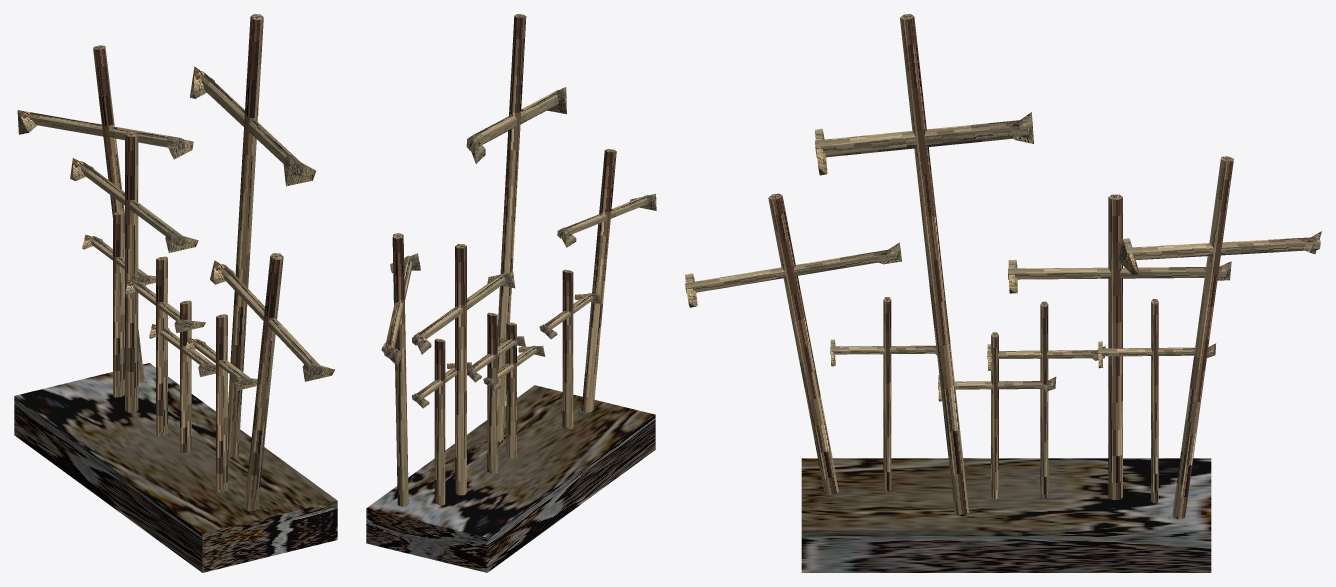
File: hillcross.glb
The picture shows the model from 3 angles, left to right: view 1: azimuth 30°, elevation 25°; view 2: azimuth 150°, elevation 25°; view 3: azimuth 270°, elevation 25°; orthographic projection. The views are drawn at different scales.
Parts seen in each view (by area): view 1: Cube, Cylinder, Cylinder.004, Cylinder.002, Cylinder.001, Cylinder.007, Cylinder.006, Cylinder.014, Cylinder.010, Cylinder.003, Cylinder.008, Cylinder.005 (+5 smaller); view 2: Cube, Cylinder, Cylinder.002, Cylinder.004, Cylinder.006, Cylinder.014, Cylinder.010, Cylinder.001, Cylinder.008, Cylinder.005, Cylinder.012, Cylinder.003 (+5 smaller); view 3: Cube, Cylinder, Cylinder.006, Cylinder.002, Cylinder.004, Cylinder.001, Cylinder.007, Cylinder.003, Cylinder.005, Cylinder.010, Cylinder.008, Cylinder.014 (+5 smaller).
Boxes of the visible parts, x1,y1,x2,y2 form: Cube: (14,363,337,572); Cylinder: (228,14,263,457); Cylinder.004: (125,131,138,412); Cylinder.002: (244,253,283,510); Cylinder.001: (190,66,315,186); Cylinder.007: (17,110,193,159); Cylinder.006: (93,45,144,382); Cylinder.014: (113,211,124,397); Cylinder.010: (216,314,227,492); Cylinder.003: (210,260,334,381); Cylinder.008: (156,256,167,436); Cylinder.005: (70,158,198,252); Cube: (366,385,655,572); Cylinder: (497,14,526,442); Cylinder.002: (581,149,616,412); Cylinder.004: (455,244,466,495); Cylinder.006: (392,233,408,506); Cylinder.014: (434,338,445,505); Cylinder.010: (562,269,573,429); Cylinder.001: (466,87,566,163); Cylinder.008: (487,312,497,473); Cylinder.005: (412,272,515,354); Cylinder.012: (506,322,516,458); Cylinder.003: (557,193,656,247); Cube: (801,458,1211,572); Cylinder: (900,14,969,515); Cylinder.006: (1172,156,1233,519); Cylinder.002: (768,193,838,494); Cylinder.004: (1108,194,1122,499); Cylinder.001: (815,112,1033,175); Cylinder.007: (1118,231,1321,274); Cylinder.003: (685,242,901,307); Cylinder.005: (1008,259,1231,293); Cylinder.010: (883,297,891,492); Cylinder.008: (1040,301,1048,498); Cylinder.014: (1151,299,1158,502).
Bounding box in the file's own units: 29.73 × 99.94 × 105.
Materials: 4 (4 with a texture image).
